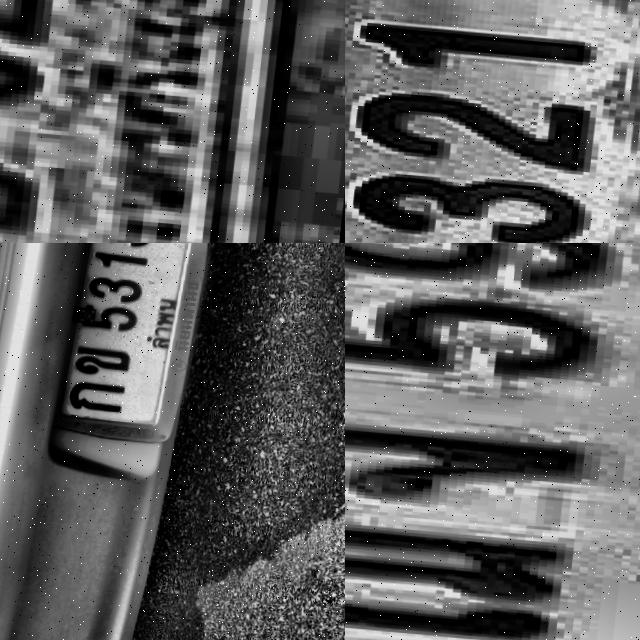license-plate: (345, 243, 640, 640), (0, 0, 301, 243), (345, 0, 640, 243), (51, 243, 210, 441)
